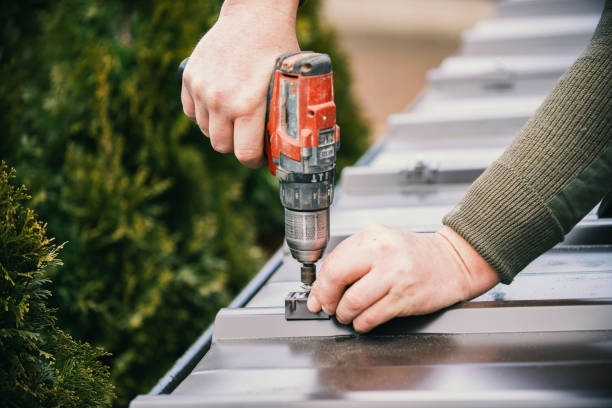driller: (175, 48, 342, 295)
